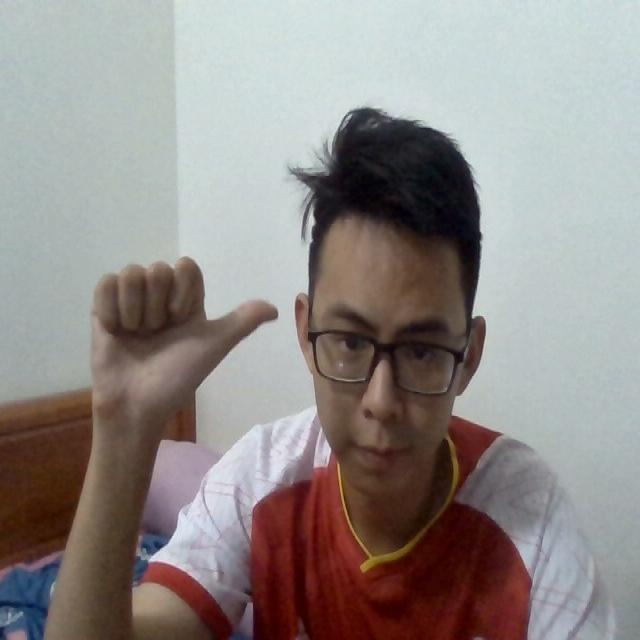A: (85, 253, 279, 423)
